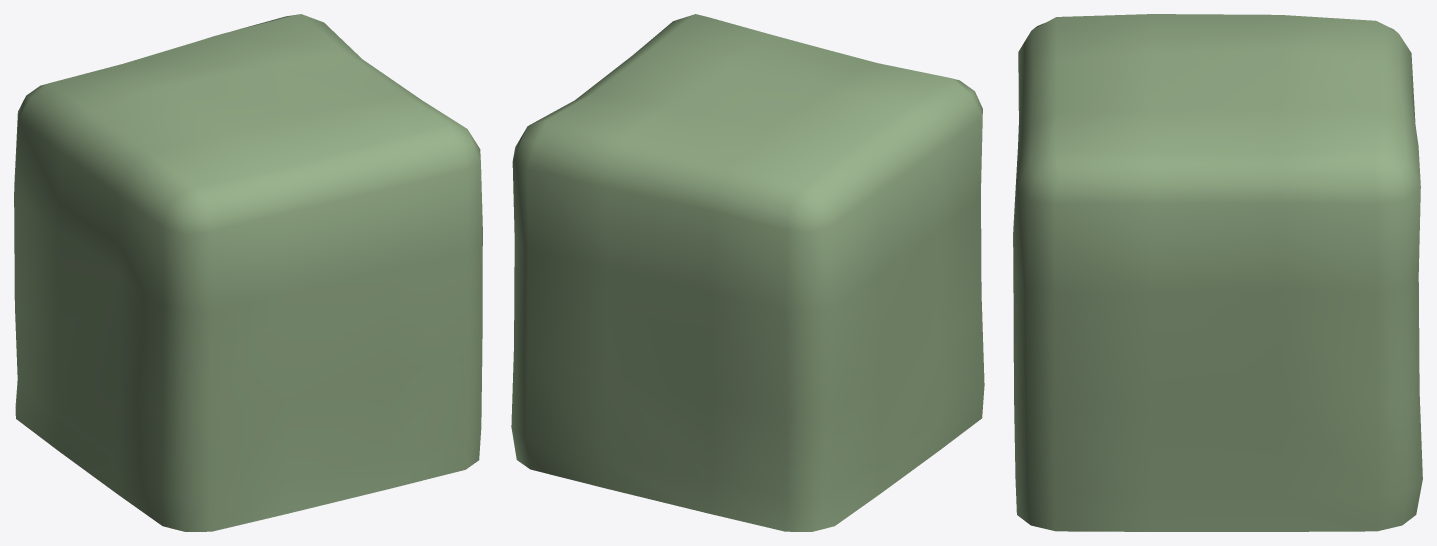
Rendered from hedge_block.glb.
3 views of the same model, side by side, from view 1: azimuth 30°, elevation 25°; view 2: azimuth 150°, elevation 25°; view 3: azimuth 270°, elevation 25° (orthographic). The views are drawn at different scales.
Parts seen in each view (by area): view 1: hedge_block; view 2: hedge_block; view 3: hedge_block.
Boxes of the visible parts, box(x1,y1,x2,y2) form: hedge_block: box(14, 14, 482, 531); hedge_block: box(511, 14, 984, 531); hedge_block: box(1013, 14, 1422, 531).
Bounding box in the file's own units: 1.01 × 1.01 × 1.02.
